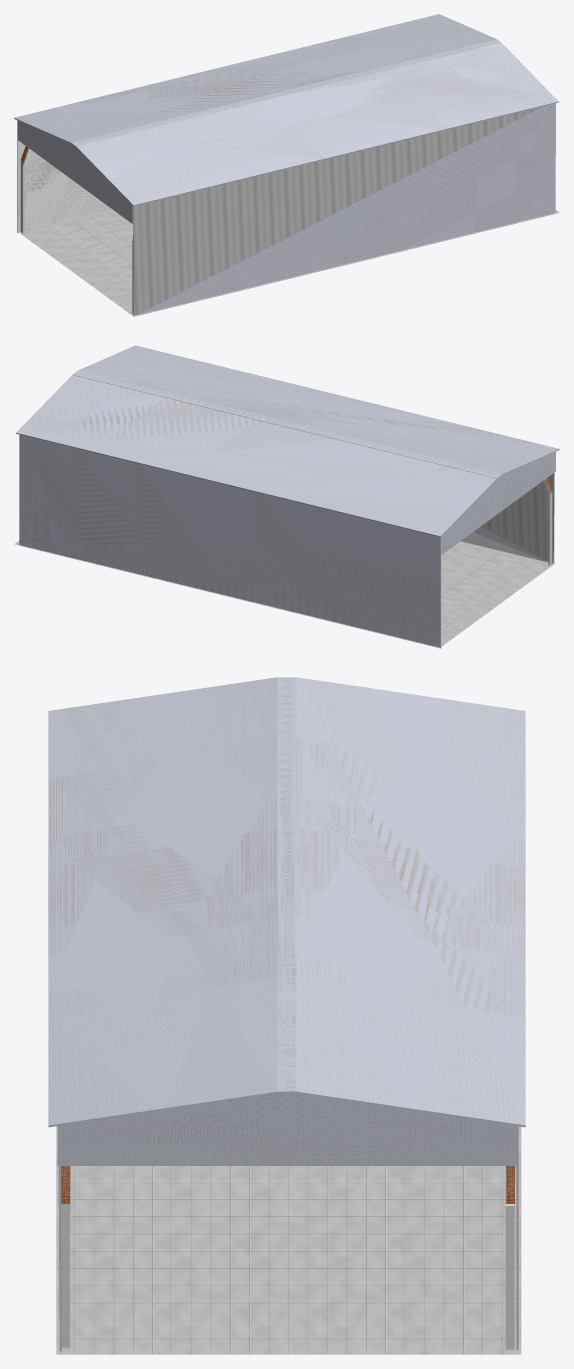
Rendered from Hangar.0.2.gltf.
3 views of the same model, one above another, from view 1: azimuth 30°, elevation 25°; view 2: azimuth 150°, elevation 25°; view 3: azimuth 270°, elevation 25° (orthographic). The views are drawn at different scales.
Visible parts, largest first — view 1: instance_0.067, instance_0.014, Plane.001, instance_0.058; view 2: instance_0.067, Plane.001, instance_0.014, instance_0.058; view 3: instance_0.067, Plane.001, Cube.007, Cube.005.
Boxes of the visible parts, x1,y1,x2,y2 form: instance_0.067: (14,14,558,232); instance_0.014: (133,103,555,316); Plane.001: (19,209,559,316); instance_0.058: (70,38,495,142); instance_0.067: (16,345,559,648); Plane.001: (14,541,555,647); instance_0.014: (461,472,554,563); instance_0.058: (73,375,496,478); instance_0.067: (48,677,525,1350); Plane.001: (56,1126,521,1354); Cube.007: (505,1204,514,1349); Cube.005: (61,1203,69,1347).
Size of the model in its own units: 22.07 by 6.47 by 10.67.
9 materials, 5 textured.
